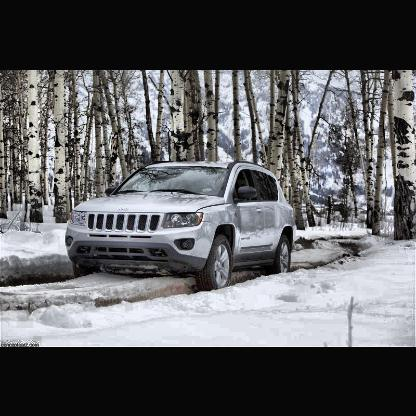Jeep Compass SUV 2012: (65, 162, 295, 293)
